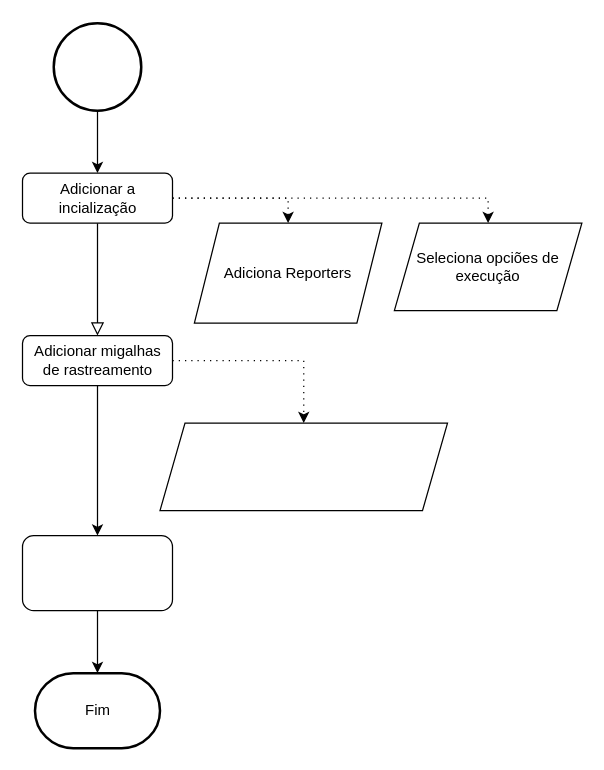
The diagram is 604 pixels wide and 770 high, and some of its shapes have lost their labels. The box of each missing label's shape, as (x1, y1, x2, y2) in pixels:
Começo: (52, 21, 142, 111)
Gera Evento: (21, 534, 172, 611)
Prepara os observers e adapters para rastreamento: (159, 422, 448, 511)
